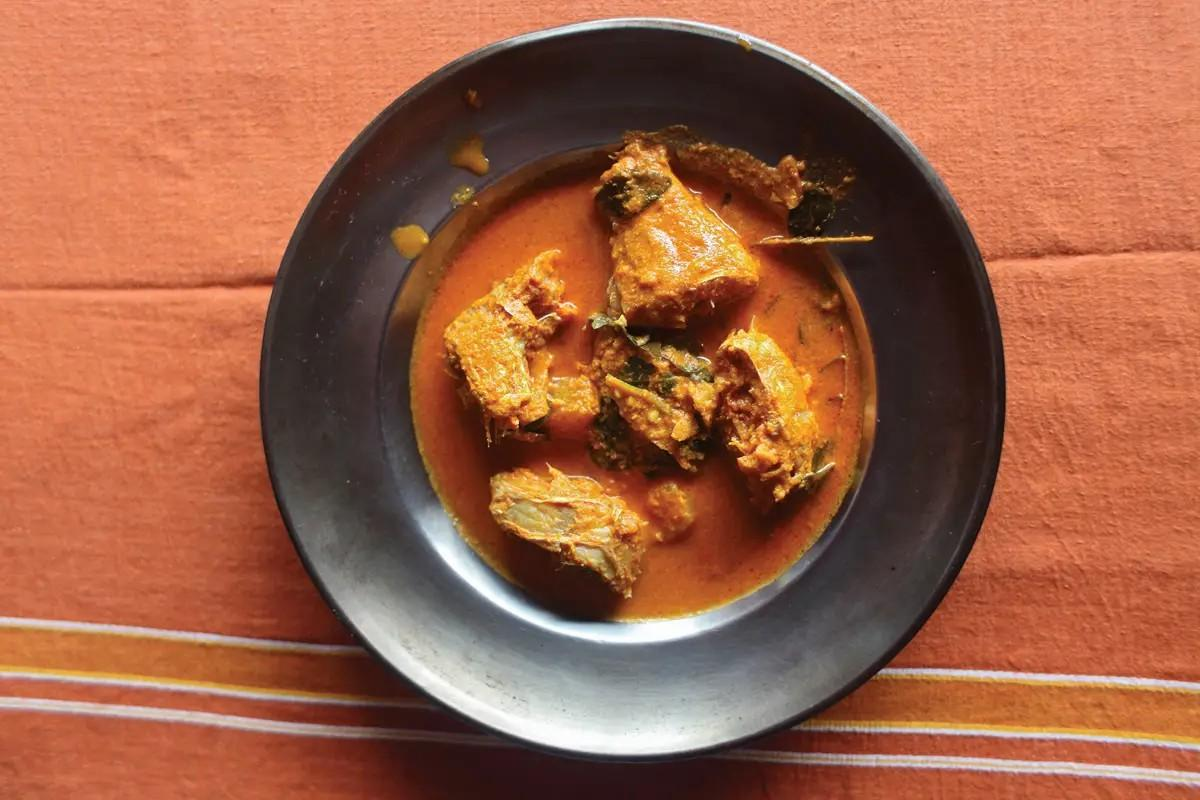FishCurry: (404, 134, 866, 620)
